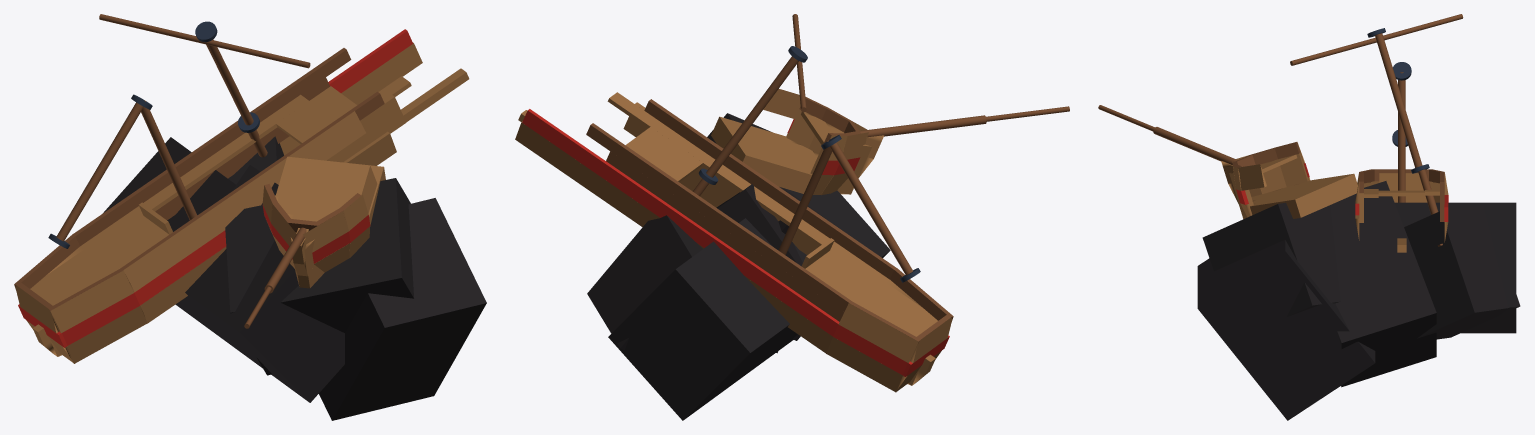
The model's file is shipwreck.fbx.
The picture shows the model from 3 angles, left to right: view 1: azimuth 30°, elevation 25°; view 2: azimuth 150°, elevation 25°; view 3: azimuth 270°, elevation 25°; orthographic projection. The views are drawn at different scales.
Visible parts, largest first — view 1: shipwreck; view 2: shipwreck; view 3: shipwreck.
Boxes of the visible parts, x1=… form: shipwreck: x1=14, y1=14, x2=486, y2=420; shipwreck: x1=515, y1=14, x2=1069, y2=420; shipwreck: x1=1098, y1=14, x2=1520, y2=420.
Bounding box in the file's own units: 11066 × 9151 × 10907.
